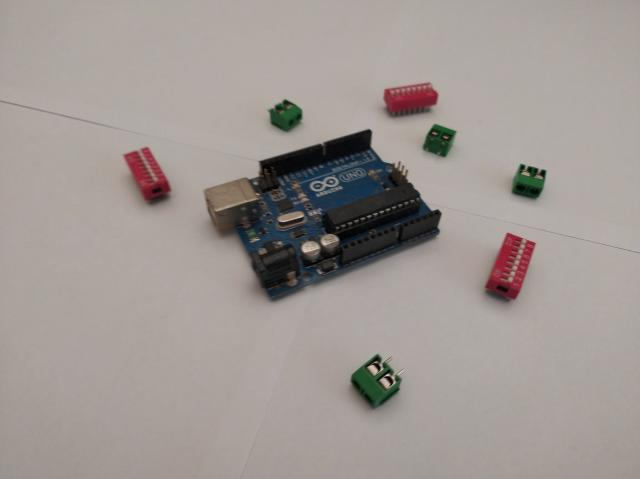arduino: (203, 130, 441, 300)
dip_switch: (484, 234, 536, 300), (123, 146, 171, 201), (384, 82, 438, 116)
terminal_block: (352, 354, 406, 409), (512, 163, 546, 197), (268, 100, 304, 132), (424, 124, 456, 158)
